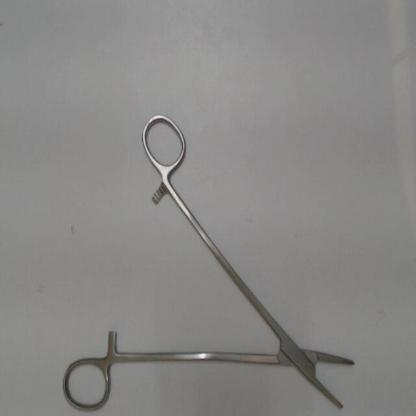8 Mayo Needle Holder: (57, 105, 378, 414)
